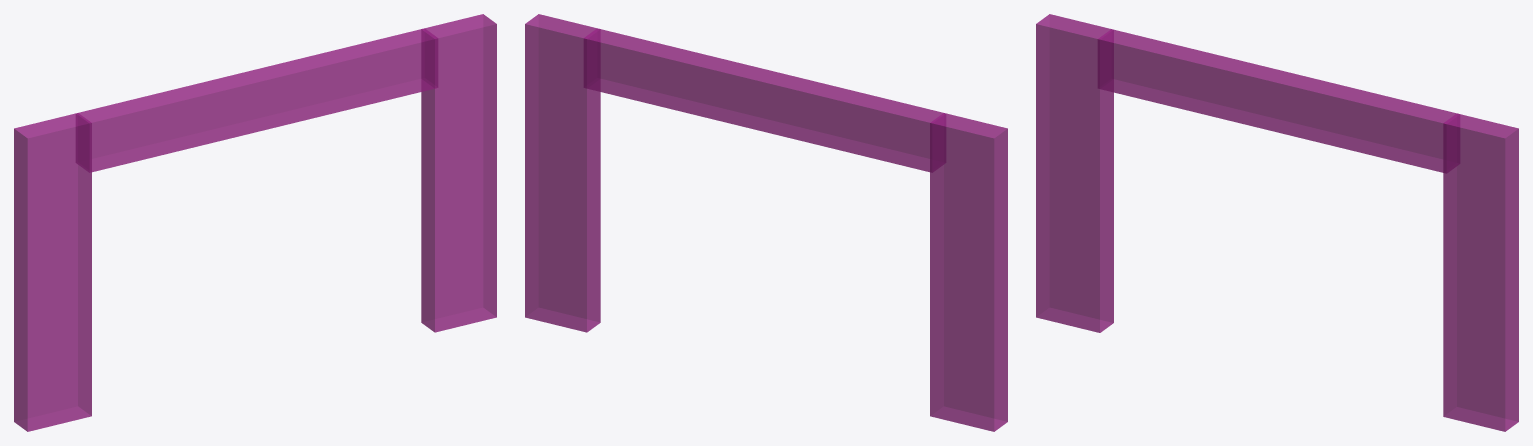
The model's file is SM_Bld_Wall_Door_Garage_01_Collision.fbx.
The picture shows the model from 3 angles, left to right: view 1: azimuth 30°, elevation 25°; view 2: azimuth 150°, elevation 25°; view 3: azimuth 330°, elevation 25°; orthographic projection.
Visible parts, largest first — view 1: SM_Bld_Wall_Door_Garage_01_Collision; view 2: SM_Bld_Wall_Door_Garage_01_Collision; view 3: SM_Bld_Wall_Door_Garage_01_Collision.
Boxes of the visible parts, left/top/right/bottom form: SM_Bld_Wall_Door_Garage_01_Collision: left=14, top=14, right=496, bottom=431; SM_Bld_Wall_Door_Garage_01_Collision: left=525, top=14, right=1007, bottom=431; SM_Bld_Wall_Door_Garage_01_Collision: left=1036, top=14, right=1518, bottom=431.
Size of the model in its own units: 505 by 302 by 25.51.
